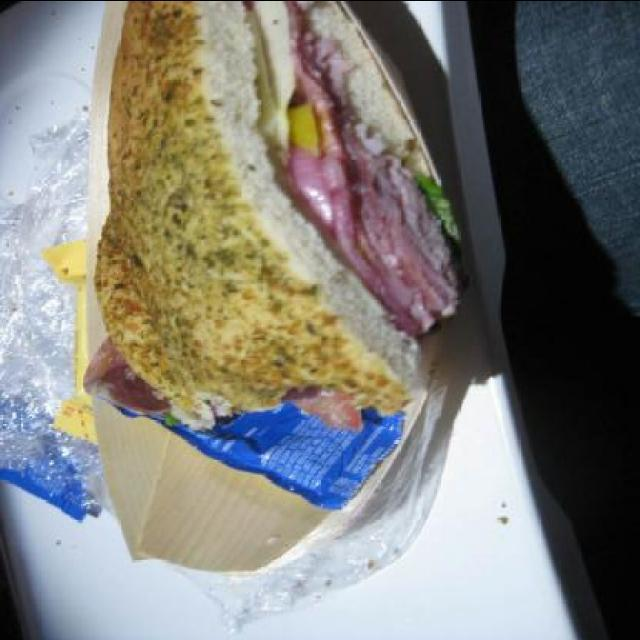Sandwich: (95, 1, 459, 433)
